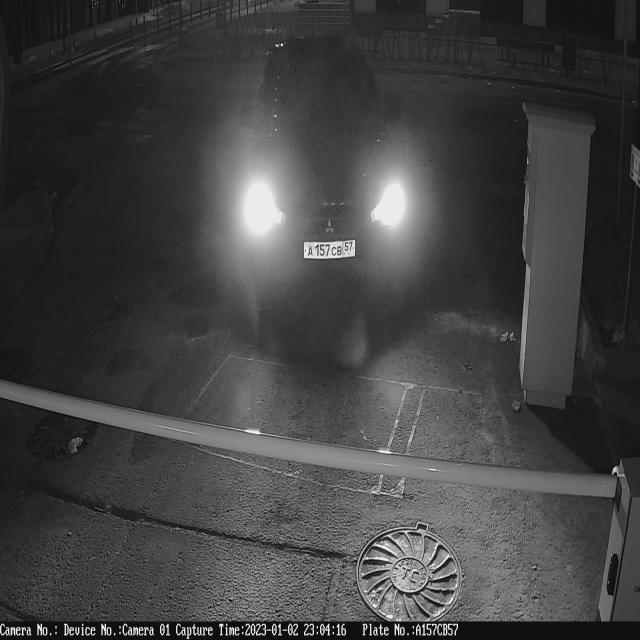car-plate-numbers: (302, 239, 359, 264)
